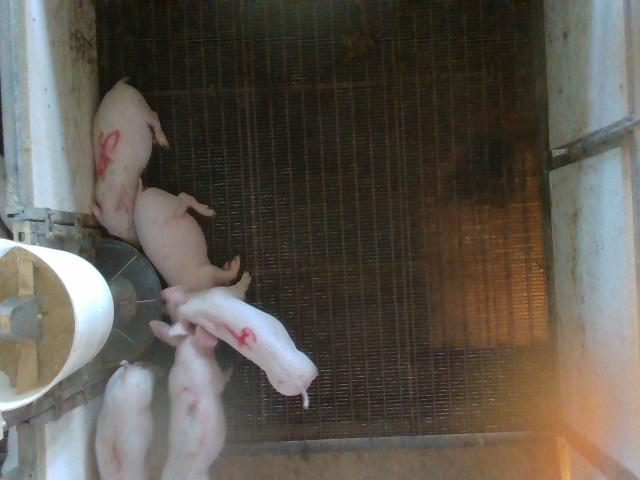pig-1: (96, 360, 154, 479)
pig-3: (161, 326, 225, 478)
pig-4: (164, 272, 318, 407)
pig-5: (92, 78, 169, 245)
